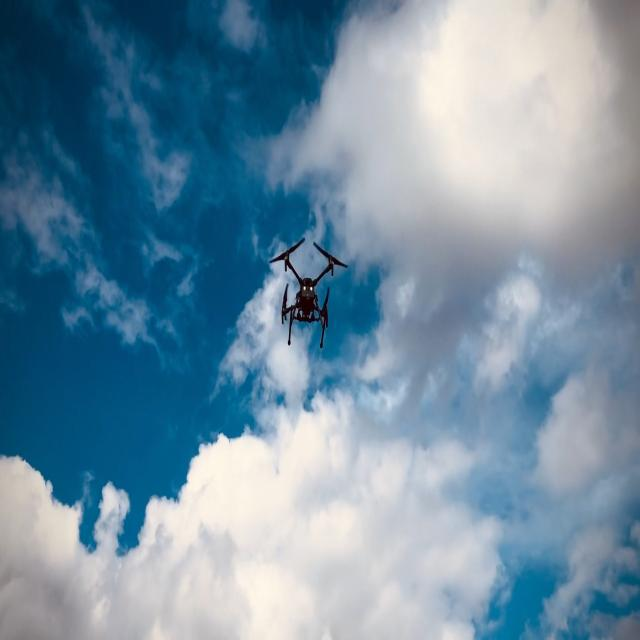drone: (268, 236, 348, 348)
